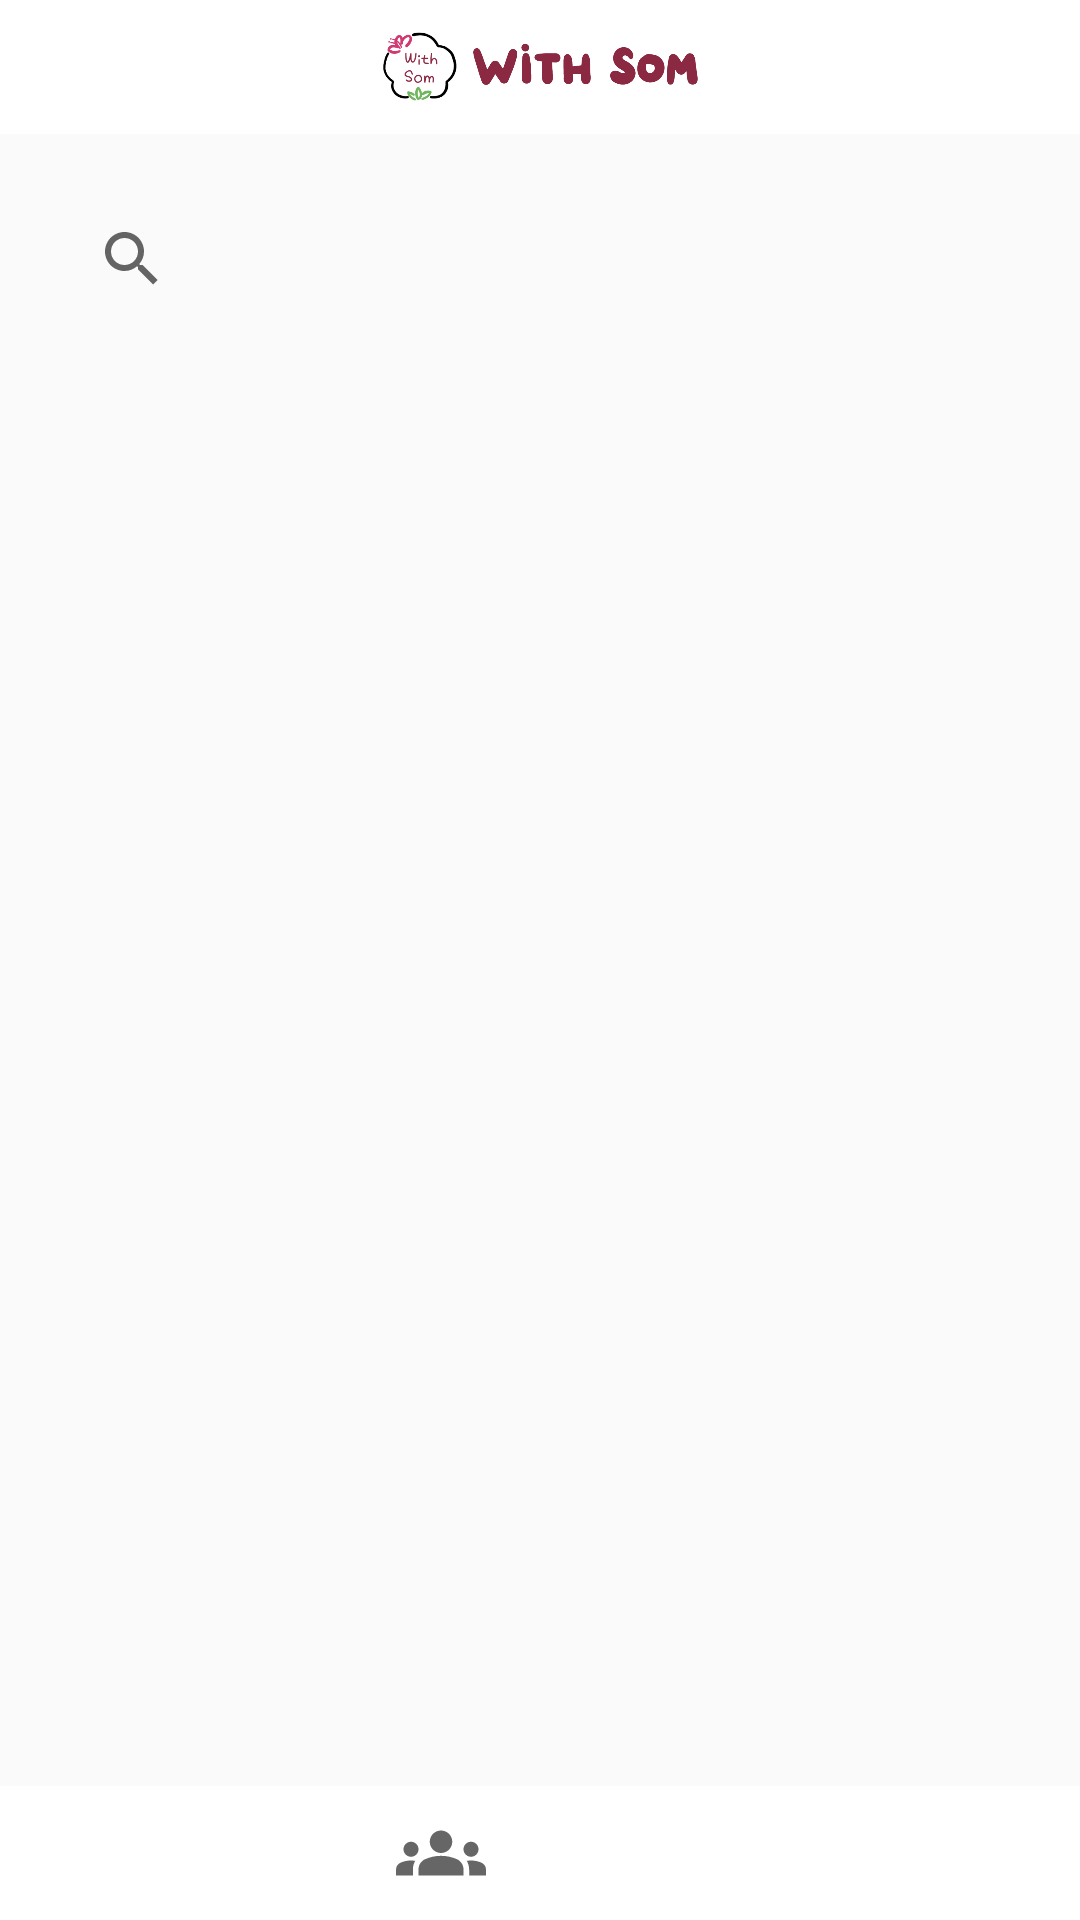

Named icons in this screenshot (1080px×1920px) and their bounding boxes, (x1, y1, x2, y2):
groups: (396, 1830, 486, 1876)
